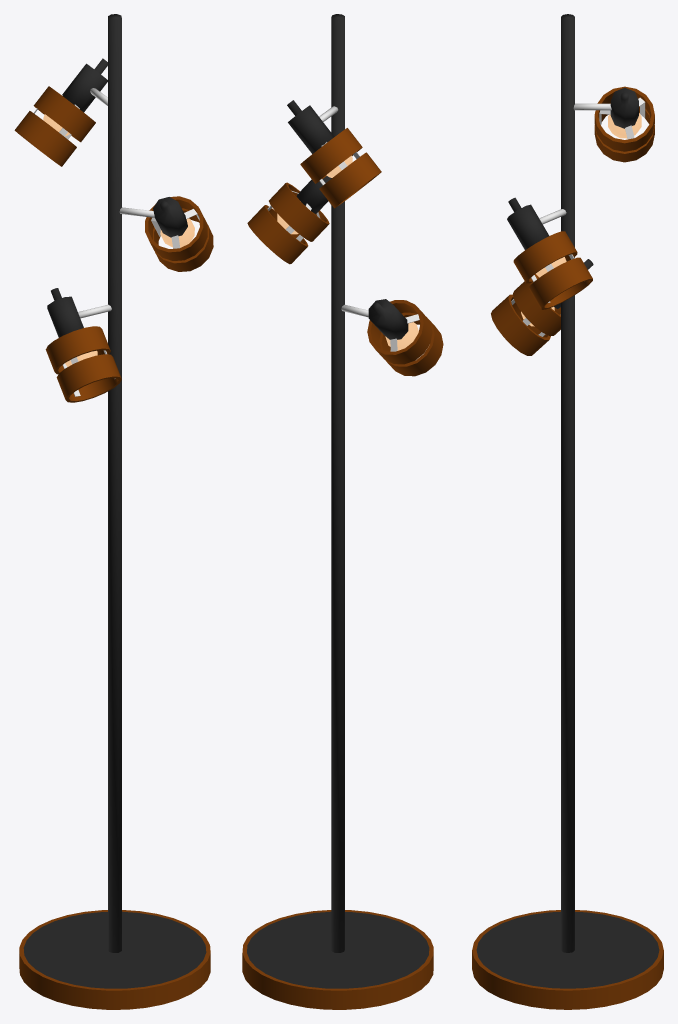
The model's file is wood-ring-floor-lamp.glb.
The picture shows the model from 3 angles, left to right: view 1: azimuth 30°, elevation 25°; view 2: azimuth 150°, elevation 25°; view 3: azimuth 270°, elevation 25°; orthographic projection.
Visible parts, largest first — view 1: Cylinder, Cylinder.001, Cylinder.003 (×3), Cylinder.004 (×3); view 2: Cylinder, Cylinder.001, Cylinder.003 (×3), Cylinder.004 (×3); view 3: Cylinder, Cylinder.001, Cylinder.003 (×3), Cylinder.004 (×2).
Part boxes in pixels (x1,y1,x2,y2): Cylinder: [19, 910, 210, 1009]; Cylinder.001: [108, 14, 121, 952]; Cylinder.003 (×3): [14, 86, 213, 402]; Cylinder.004 (×3): [47, 58, 187, 337]; Cylinder: [242, 910, 433, 1009]; Cylinder.001: [331, 14, 344, 952]; Cylinder.003 (×3): [247, 128, 443, 376]; Cylinder.004 (×3): [287, 100, 408, 339]; Cylinder: [472, 910, 663, 1009]; Cylinder.001: [561, 14, 574, 952]; Cylinder.003 (×3): [491, 86, 654, 355]; Cylinder.004 (×2): [507, 87, 638, 249].
Size of what is drawn, in the model's own units: 0.2835 by 1.48 by 0.27.
